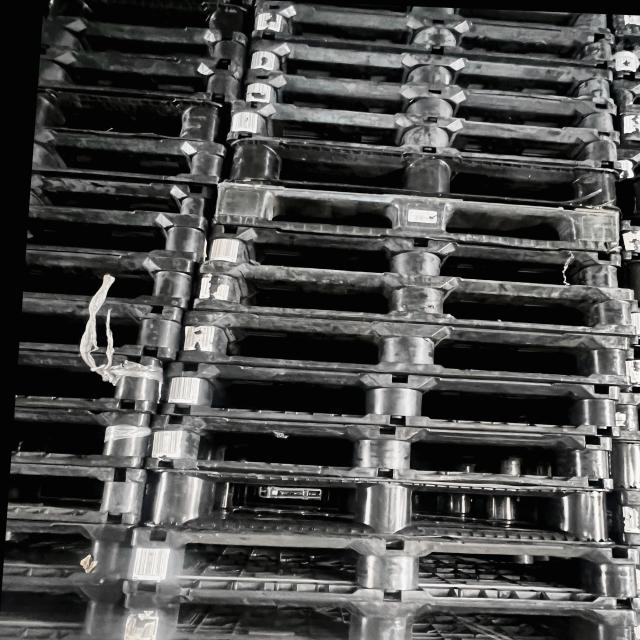igps: (111, 520, 640, 616), (157, 354, 630, 447), (138, 460, 624, 550), (172, 302, 636, 393), (140, 409, 622, 495), (196, 219, 640, 306), (186, 257, 640, 341), (207, 179, 629, 258), (224, 133, 627, 214), (223, 95, 626, 175), (115, 580, 640, 640), (246, 36, 618, 108), (247, 0, 618, 71), (238, 70, 621, 136), (29, 38, 252, 110), (33, 7, 256, 78), (29, 80, 240, 152), (22, 122, 236, 192), (7, 204, 220, 270), (10, 293, 193, 363), (11, 344, 175, 421), (0, 455, 165, 531), (15, 247, 210, 311), (21, 165, 221, 227), (288, 0, 615, 37), (0, 400, 163, 473), (37, 0, 261, 52), (0, 513, 137, 585), (0, 572, 135, 640)
